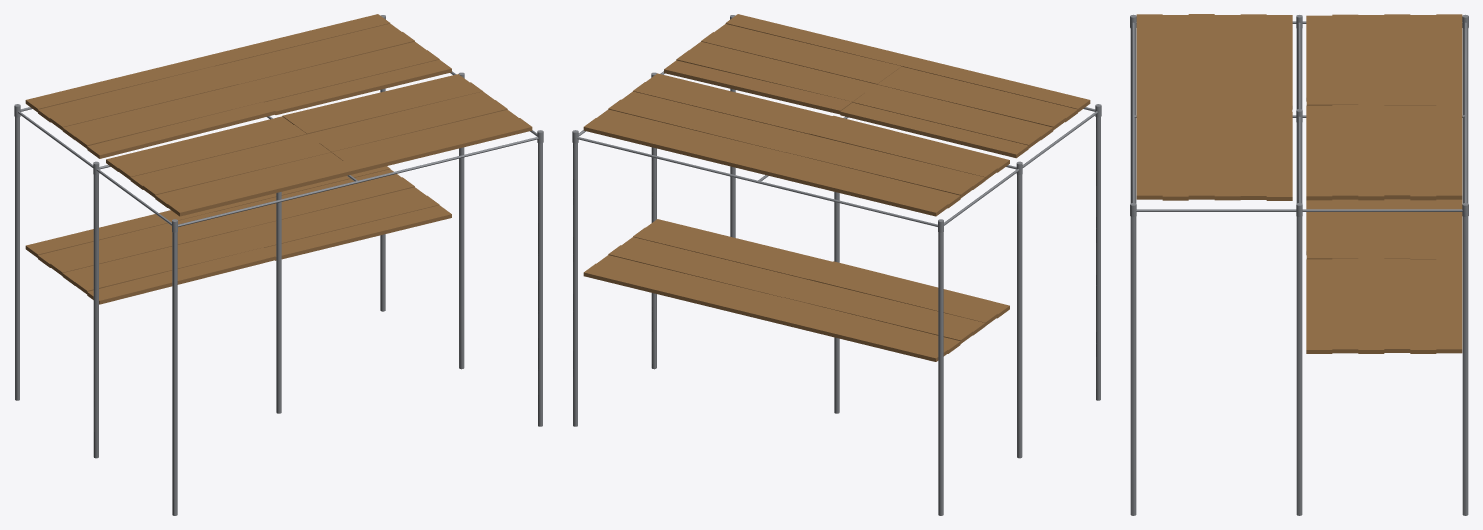
The model's file is prop-scaffold.glb.
3 renders of one model, left to right at view 1: azimuth 30°, elevation 25°; view 2: azimuth 150°, elevation 25°; view 3: azimuth 270°, elevation 25°, orthographic. The views are drawn at different scales.
Parts seen in each view (by area): view 1: scaffold (×2); view 2: scaffold (×2); view 3: scaffold (×2).
Part boxes in pixels (x1,y1,x2,y2): scaffold (×2): (14, 14, 543, 515); scaffold (×2): (572, 14, 1101, 515); scaffold (×2): (1130, 14, 1468, 515).
Bounding box in the file's own units: 4 × 3.09 × 3.
